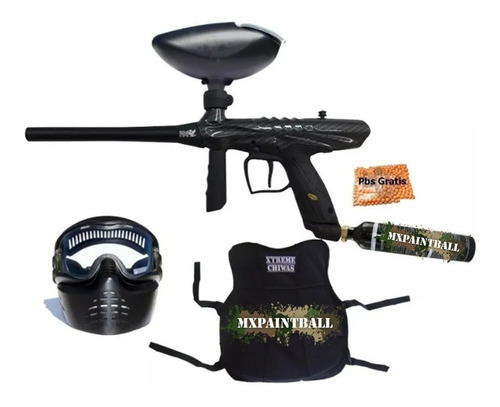Arma Falsa: (11, 19, 484, 261)
